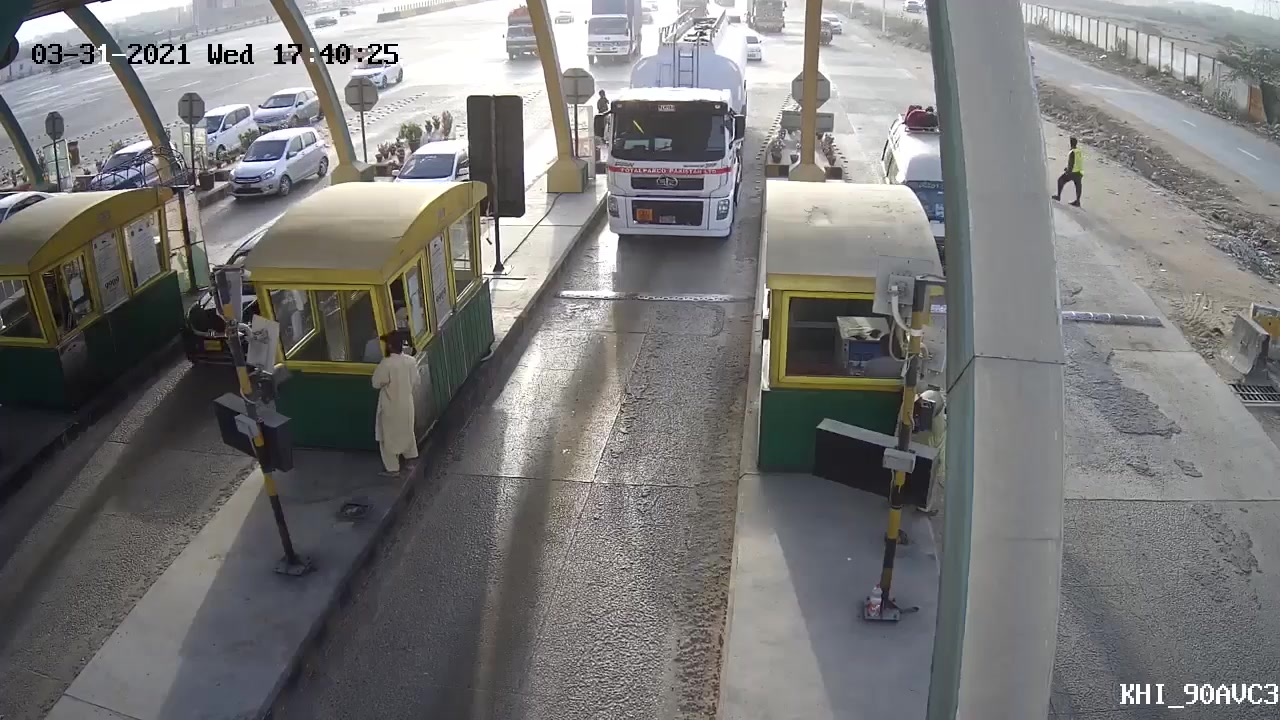F6: (582, 52, 748, 251)
